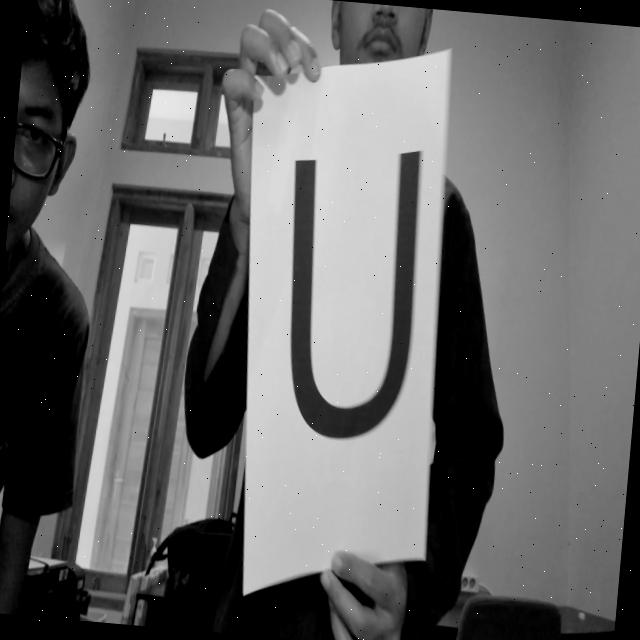u: (254, 117, 436, 469)
